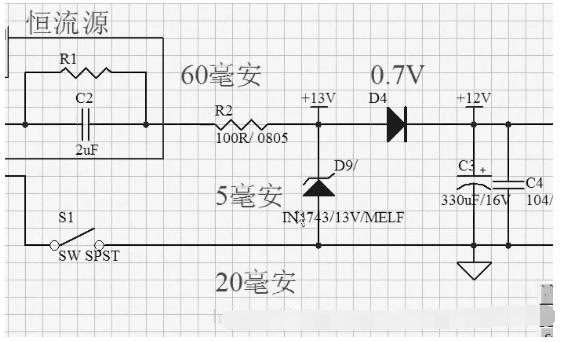cap1: (489, 175, 528, 194), (78, 105, 94, 143)
cap2: (453, 165, 491, 196)
diode: (383, 104, 411, 148), (300, 171, 338, 200)
res2: (209, 114, 273, 134), (50, 65, 117, 84)
switch: (46, 226, 108, 253)
